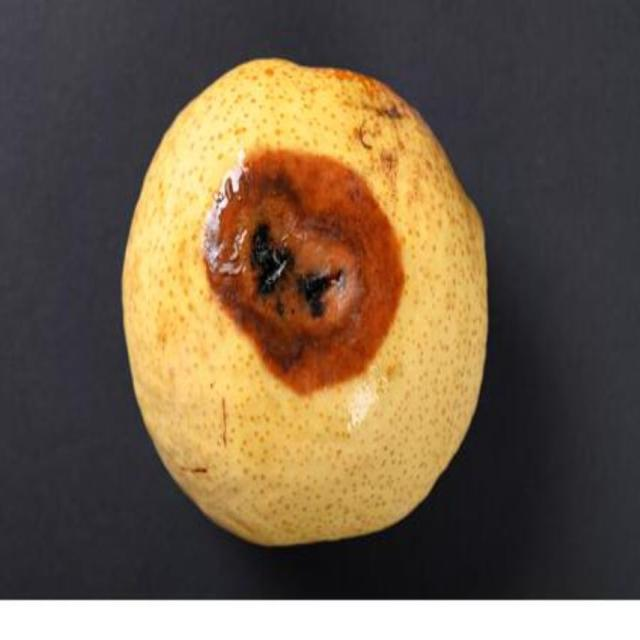Rotten Apple: (119, 40, 487, 516)
